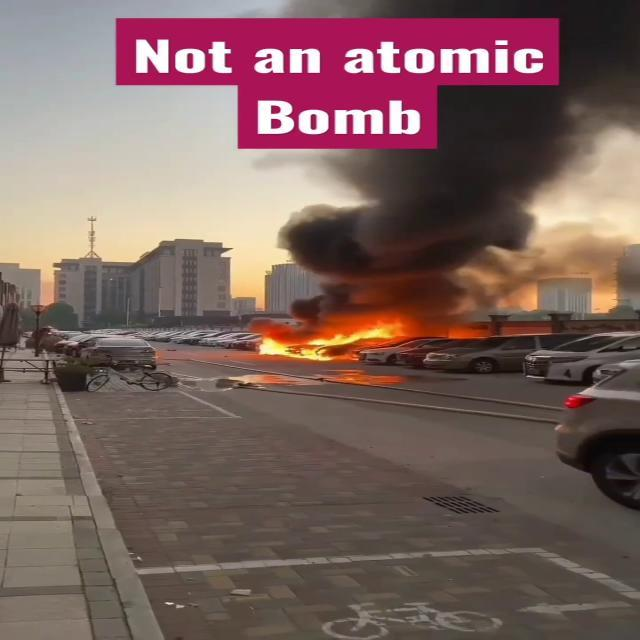Fire: (254, 314, 408, 360)
Smoke: (263, 62, 640, 308)
